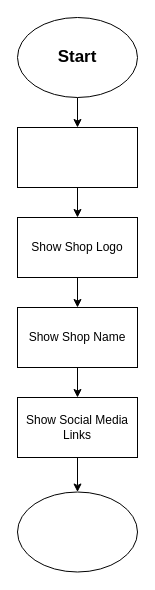
Some shapes in this 155 by 590 pixel diagram are drawn without their labels. The centre of each missing label's shape, as x and y in pixels:
END: point 77,531
Get Seller ID: point 77,157
